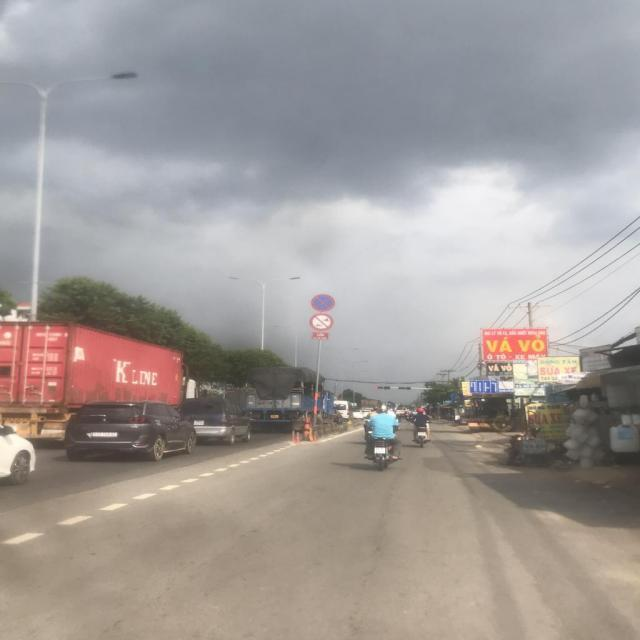442-cho: (451, 394, 463, 402)
